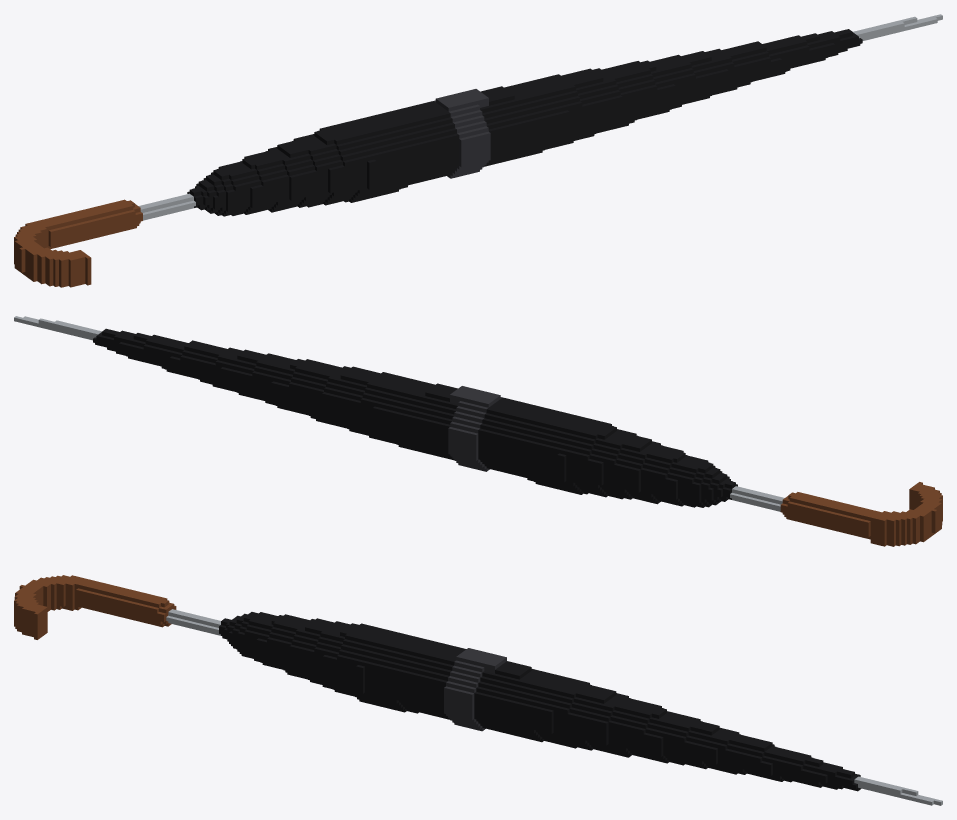
Rendered from umbrella.glb.
3 renders of one model, top to bottom at view 1: azimuth 30°, elevation 25°; view 2: azimuth 150°, elevation 25°; view 3: azimuth 330°, elevation 25°, orthographic. The views are drawn at different scales.
Visible parts, largest first — view 1: umbrella:compound; view 2: umbrella:compound; view 3: umbrella:compound.
Part boxes in pixels (x1,y1,x2,y2): umbrella:compound: (14,14,942,287); umbrella:compound: (14,316,942,546); umbrella:compound: (14,575,942,805).
Bounding box in the file's own units: 1.02 × 0.072 × 0.124.
